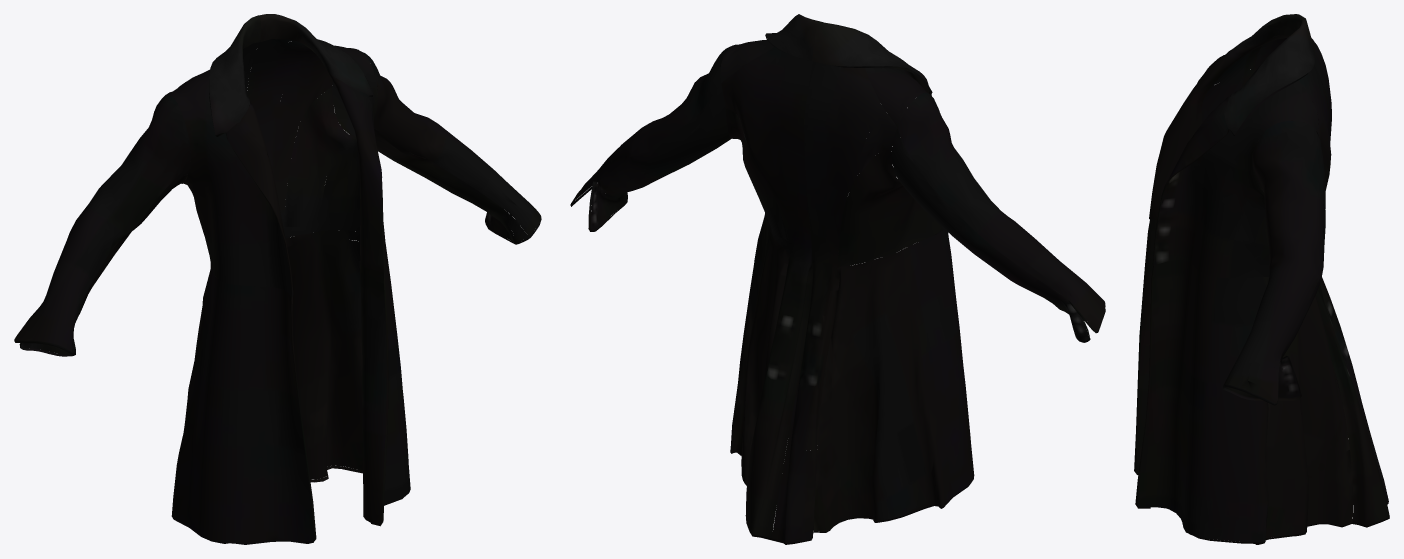
Rendered from ropa_1830s_frock_coat_unbuttoned.glb.
3 views of the same model, side by side, from view 1: azimuth 30°, elevation 25°; view 2: azimuth 150°, elevation 25°; view 3: azimuth 270°, elevation 25° (orthographic).
Parts seen in each view (by area): view 1: defaultMaterial; view 2: defaultMaterial; view 3: defaultMaterial.
Part boxes in pixels (<box>): defaultMaterial: <box>14,14,541,544</box>; defaultMaterial: <box>570,14,1105,544</box>; defaultMaterial: <box>1134,14,1389,544</box>.
Bounding box in the file's own units: 1.34 × 1.2 × 0.5666.
Materials: 1 (1 with a texture image).
